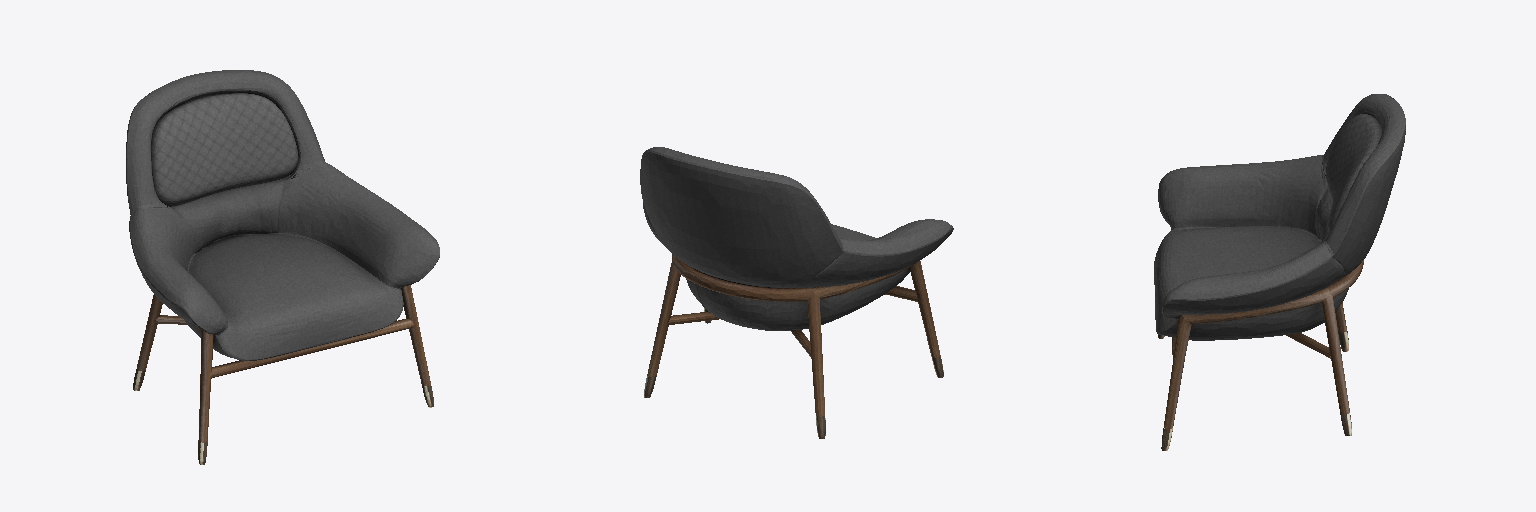
The picture shows the model from 3 angles: view 1: azimuth 30°, elevation 25°; view 2: azimuth 150°, elevation 25°; view 3: azimuth 270°, elevation 25°; orthographic projection.
Visible parts, largest first — view 1: solid_003, solid_002, solid_004, solid_005; view 2: solid_003, solid_004, solid_001, solid_005; view 3: solid_003, solid_004, solid_002, solid_005.
Boxes of the visible parts, box(x1,y1,x2,y2) form: solid_003: box(126, 70, 439, 360); solid_002: box(151, 93, 298, 206); solid_004: box(137, 285, 430, 442); solid_005: box(133, 369, 433, 464); solid_003: box(640, 147, 953, 330); solid_004: box(647, 254, 940, 416); solid_001: box(668, 312, 810, 356); solid_005: box(644, 308, 943, 438); solid_003: box(1154, 94, 1405, 340); solid_004: box(1164, 260, 1363, 428); solid_002: box(1326, 114, 1381, 232); solid_005: box(1158, 331, 1351, 450).
Size of the model in its own units: 1.34 by 1.33 by 1.11.
Materials: 1 (1 with a texture image).